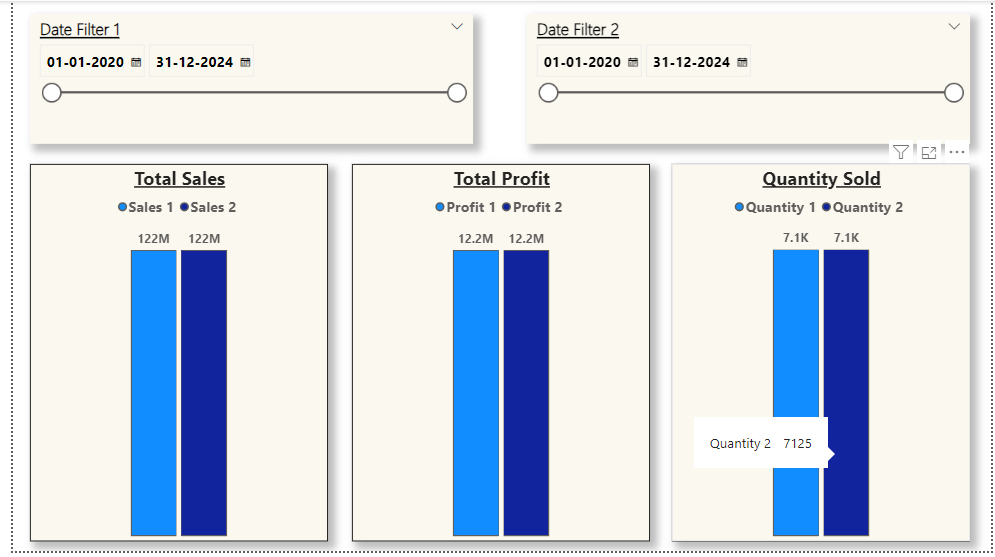

What the dashboard file says about the page in this screenshot:
{"tool":"powerbi","page":{"name":"Comparison Sales/Profit/Quantity","canvas":[1280,720],"ordinal":2},"visuals":[{"type":"slicer","fields":{"Values":["Date Table 1.Date"]},"box":[21.6,17.3,580,170],"z":0},{"type":"slicer","fields":{"Values":["Date Table 2.Date"]},"box":[672.5,17.3,580.3,169.9],"z":1000},{"type":"clusteredColumnChart","title":"Total Sales","fields":{"Y":["Sum(Fact Table.Net Sales)","Date Table 1.Sum of Net Sales"]},"box":[21.6,213.1,390,493.9],"z":2000},{"type":"clusteredColumnChart","title":"Total Profit","fields":{"Y":["Sum(Fact Table.Profit)","Measures Table.Total Profit"]},"box":[443.5,213.1,390.2,493.9],"z":3000},{"type":"clusteredColumnChart","title":"Quantity Sold","fields":{"Y":["Sum(Fact Table.Units Sold)","Measures Table.Total Unit Sold"]},"box":[862.6,213.1,390.2,493.9],"z":4000}]}

Visuals, with their boxes in screenshot pixels (x1, y1, x2, y2), scaled from the page's 1280x720 canvas onto the 995x557 screenshot:
slicer - Date Table 1.Date: <box>17,13,468,145</box>
slicer - Date Table 2.Date: <box>523,13,974,145</box>
"Total Sales" clusteredColumnChart: <box>17,165,320,547</box>
"Total Profit" clusteredColumnChart: <box>345,165,648,547</box>
"Quantity Sold" clusteredColumnChart: <box>671,165,974,547</box>
